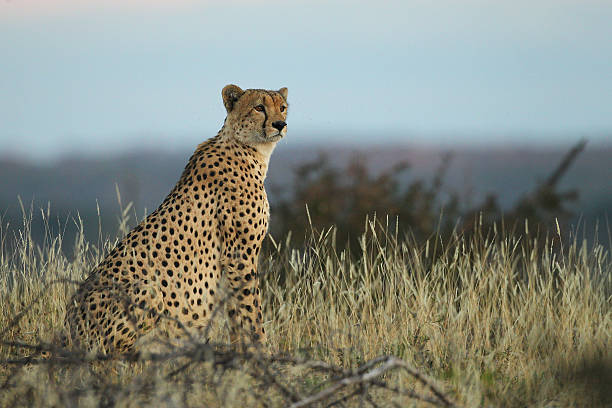cheetah: (211, 75, 307, 155)
